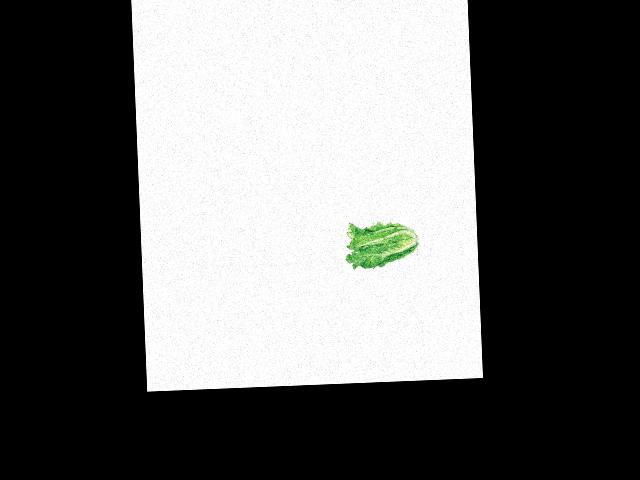lettuce: (343, 218, 418, 270)
